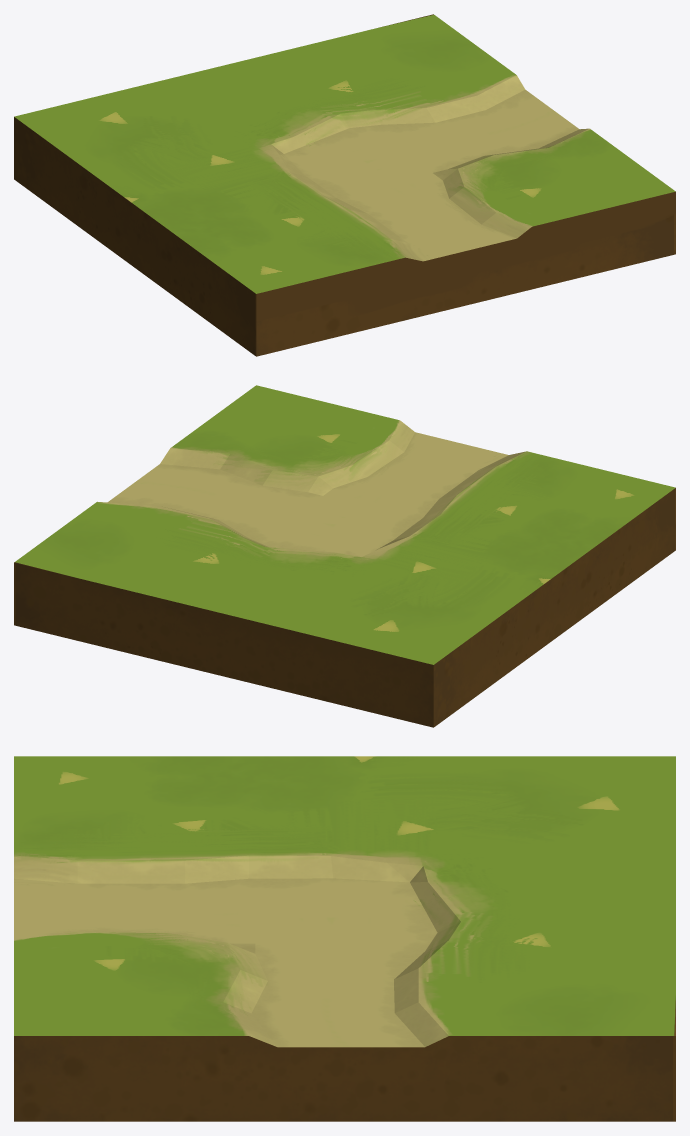
File: pathCorner.fbx
3 views of the same model, one above another, from view 1: azimuth 30°, elevation 25°; view 2: azimuth 150°, elevation 25°; view 3: azimuth 270°, elevation 25° (orthographic). The views are drawn at different scales.
Visible parts, largest first — view 1: path corner; view 2: path corner; view 3: path corner.
Boxes of the visible parts, x1=… form: path corner: x1=14, y1=14, x2=675, y2=356; path corner: x1=14, y1=385, x2=675, y2=727; path corner: x1=14, y1=756, x2=675, y2=1121.
Bounding box in the file's own units: 200 × 28.57 × 200.
1 material, 1 textured.
